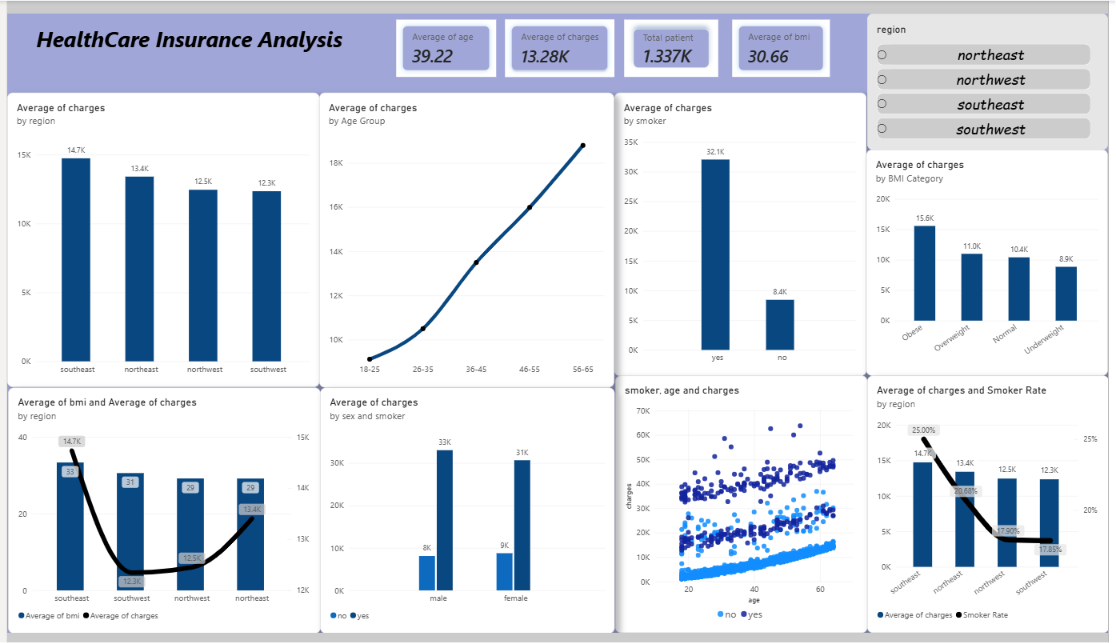

This screenshot's page, from the dashboard's own definition file:
{"tool":"powerbi","page":{"name":"Page 1","canvas":[1920,1080],"ordinal":0},"visuals":[{"type":"clusteredColumnChart","fields":{"Category":["insurance_clean_1.smoker"],"Y":["Avg(insurance_clean_1.charges)"]},"box":[1080.4,0,418,360.1],"z":0},{"type":"scatterChart","fields":{"Series":["insurance_clean_1.smoker"],"X":["insurance_clean_1.age"],"Y":["insurance_clean_1.charges"]},"box":[1080.4,374.6,418,705.8],"z":1000},{"type":"clusteredColumnChart","fields":{"Category":["insurance_clean_1.region"],"Y":["Avg(insurance_clean_1.charges)"]},"box":[204.5,99.5,436.1,535.7],"z":2000},{"type":"clusteredColumnChart","fields":{"Category":["insurance_clean_1.BMI Category"],"Y":["Avg(insurance_clean_1.charges)"]},"box":[1521.9,0,398.1,524.8],"z":3000},{"type":"lineClusteredColumnComboChart","fields":{"Category":["insurance_clean_1.region"],"Y":["Avg(insurance_clean_1.charges)"],"Y2":["insurance_clean_1.Smoker Rate"]},"box":[1521.9,541.1,398.1,539.3],"z":4000},{"type":"lineClusteredColumnComboChart","fields":{"Category":["insurance_clean_1.region"],"Y":["Avg(insurance_clean_1.bmi)"],"Y2":["Avg(insurance_clean_1.charges)"]},"box":[25.3,651.5,546.5,428.9],"z":5000},{"type":"lineChart","fields":{"Category":["insurance_clean_1.Age Group"],"Y":["Avg(insurance_clean_1.charges)"]},"box":[658.7,0,399.9,635.2],"z":6000},{"type":"clusteredColumnChart","fields":{"Category":["insurance_clean_1.sex"],"Series":["insurance_clean_1.smoker"],"Y":["Avg(insurance_clean_1.charges)"]},"box":[589.9,651.5,468.7,414.4],"z":7000},{"type":"textbox","box":[100,100,300,300],"z":8000},{"type":"textbox","box":[50.7,19.9,385.5,79.6],"z":9000},{"type":"cardVisual","fields":{"Data":["Avg(insurance_clean_1.charges)"]},"box":[25.3,99.5,150.2,119.4],"z":10000},{"type":"cardVisual","fields":{"Data":["Avg(insurance_clean_1.bmi)"]},"box":[25.3,219,150.2,99.5],"z":11000},{"type":"cardVisual","fields":{"Data":["Avg(insurance_clean_1.age)"]},"box":[25.3,323.9,150.2,101.3],"z":12000},{"type":"cardVisual","fields":{"Data":["CountNonNull(insurance_clean_1.charges)"]},"box":[25.3,430.7,150.2,110.4],"z":13000}]}

Visuals, with their boxes in screenshot pixels (x1, y1, x2, y2), scaled from the page's 1920x1080 canvas onto the 1116x643 screenshot:
clusteredColumnChart - insurance_clean_1.smoker x Avg(insurance_clean_1.charges): x1=628, y1=0, x2=871, y2=214
scatterChart - insurance_clean_1.smoker x insurance_clean_1.age: x1=628, y1=223, x2=871, y2=642
clusteredColumnChart - insurance_clean_1.region x Avg(insurance_clean_1.charges): x1=119, y1=59, x2=372, y2=378
clusteredColumnChart - insurance_clean_1.BMI Category x Avg(insurance_clean_1.charges): x1=885, y1=0, x2=1115, y2=312
lineClusteredColumnComboChart - insurance_clean_1.region x Avg(insurance_clean_1.charges): x1=885, y1=322, x2=1115, y2=642
lineClusteredColumnComboChart - insurance_clean_1.region x Avg(insurance_clean_1.bmi): x1=15, y1=388, x2=332, y2=642
lineChart - insurance_clean_1.Age Group x Avg(insurance_clean_1.charges): x1=383, y1=0, x2=615, y2=378
clusteredColumnChart - insurance_clean_1.sex x insurance_clean_1.smoker: x1=343, y1=388, x2=615, y2=635
textbox: x1=58, y1=60, x2=233, y2=238
textbox: x1=29, y1=12, x2=254, y2=59
cardVisual - Avg(insurance_clean_1.charges): x1=15, y1=59, x2=102, y2=130
cardVisual - Avg(insurance_clean_1.bmi): x1=15, y1=130, x2=102, y2=190
cardVisual - Avg(insurance_clean_1.age): x1=15, y1=193, x2=102, y2=253
cardVisual - CountNonNull(insurance_clean_1.charges): x1=15, y1=256, x2=102, y2=322
